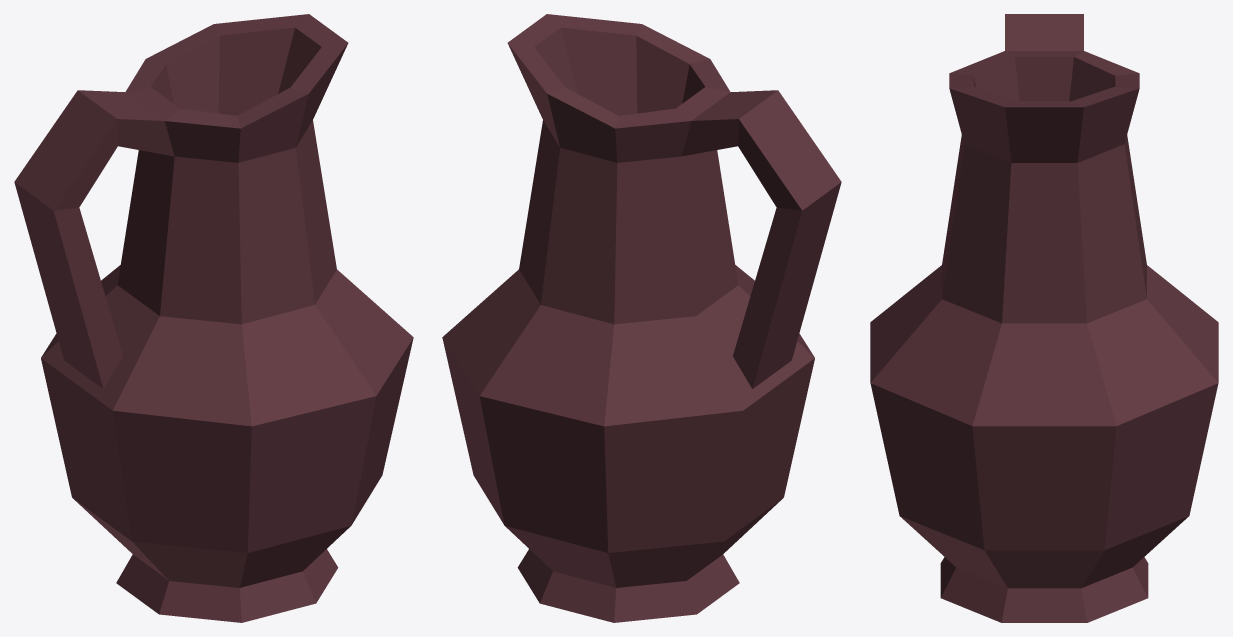
File: SM_Vase_Lekythos_Empire.fbx
3 views of the same model, side by side, from view 1: azimuth 30°, elevation 25°; view 2: azimuth 150°, elevation 25°; view 3: azimuth 270°, elevation 25° (orthographic).
Parts seen in each view (by area): view 1: SM_Vase_Lekythos_Empire; view 2: SM_Vase_Lekythos_Empire; view 3: SM_Vase_Lekythos_Empire.
Part boxes in pixels (box(x1,y1,x2,y2)): SM_Vase_Lekythos_Empire: box(14, 14, 413, 622); SM_Vase_Lekythos_Empire: box(442, 14, 841, 622); SM_Vase_Lekythos_Empire: box(870, 14, 1218, 622).
Bounding box in the file's own units: 0.5604 × 0.816 × 0.4906.
